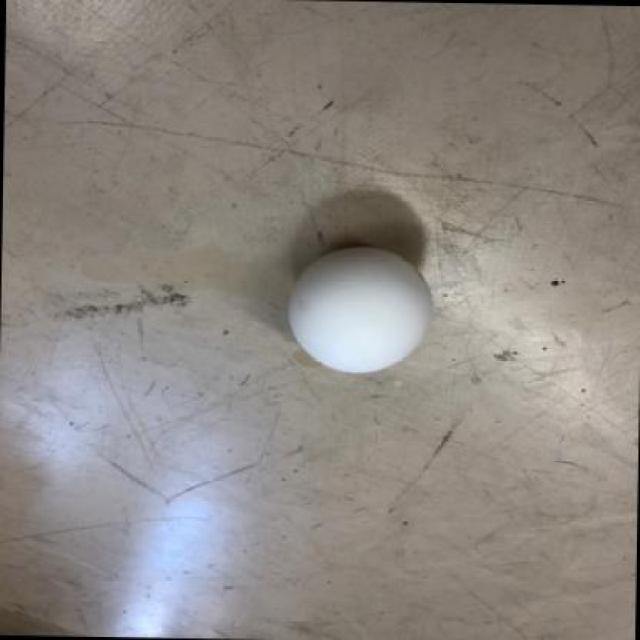egg: (285, 244, 443, 374)
